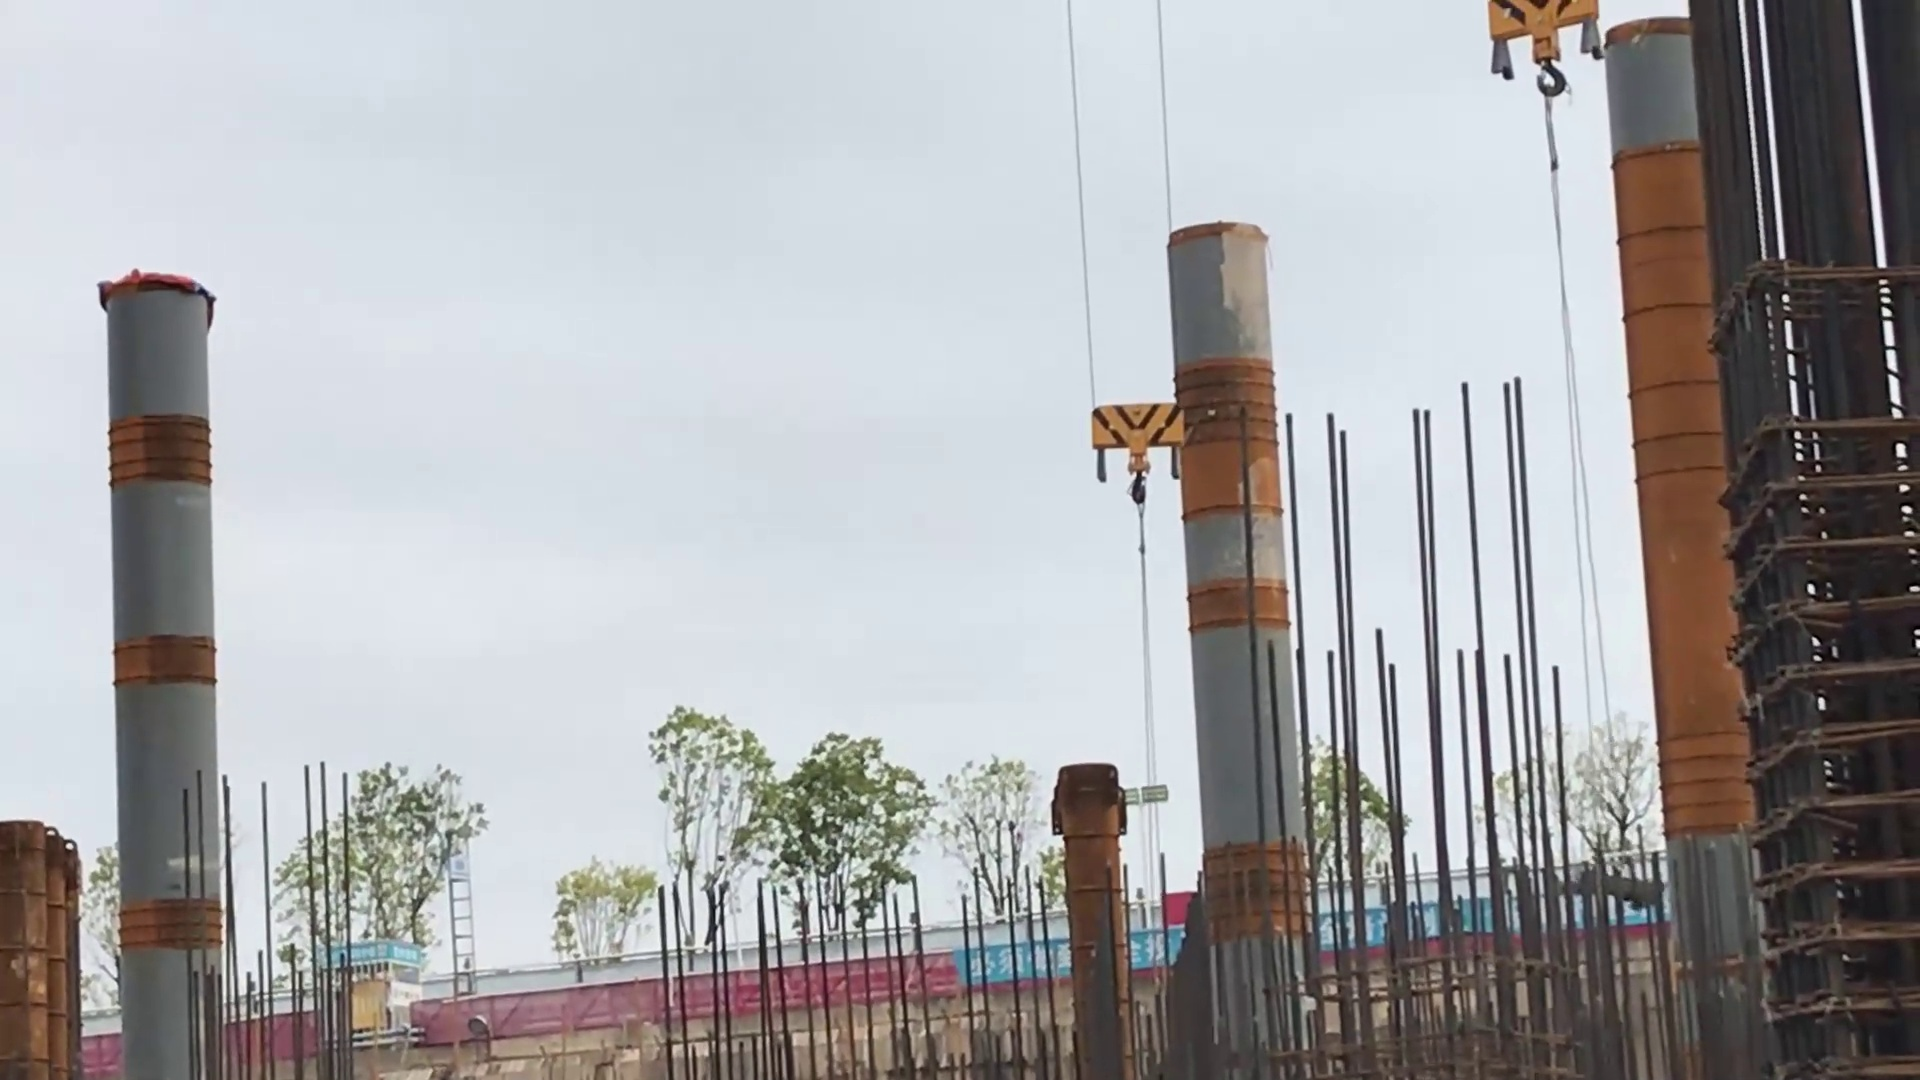fence: (7, 870, 1717, 1076)
hook: (1474, 1, 1634, 109), (1083, 382, 1196, 513)
slogan: (957, 881, 1680, 997)
